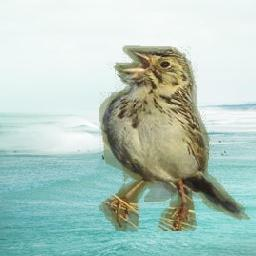Sparrow: (100, 45, 251, 231)
